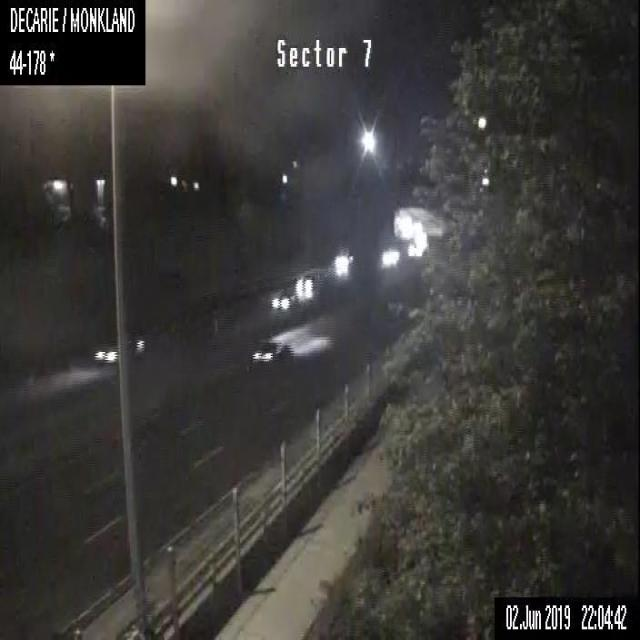vehicle: (92, 335, 145, 361), (245, 342, 283, 367), (293, 274, 318, 298), (334, 252, 352, 272), (270, 292, 291, 309), (381, 248, 401, 265)
